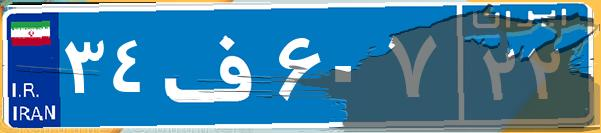0: (330, 28, 385, 110)
2: (475, 38, 525, 113), (525, 38, 570, 115)
3: (57, 26, 110, 107)
4: (110, 28, 158, 105)
6: (273, 28, 330, 110)
7: (385, 28, 445, 110)
ف: (158, 15, 273, 115)
